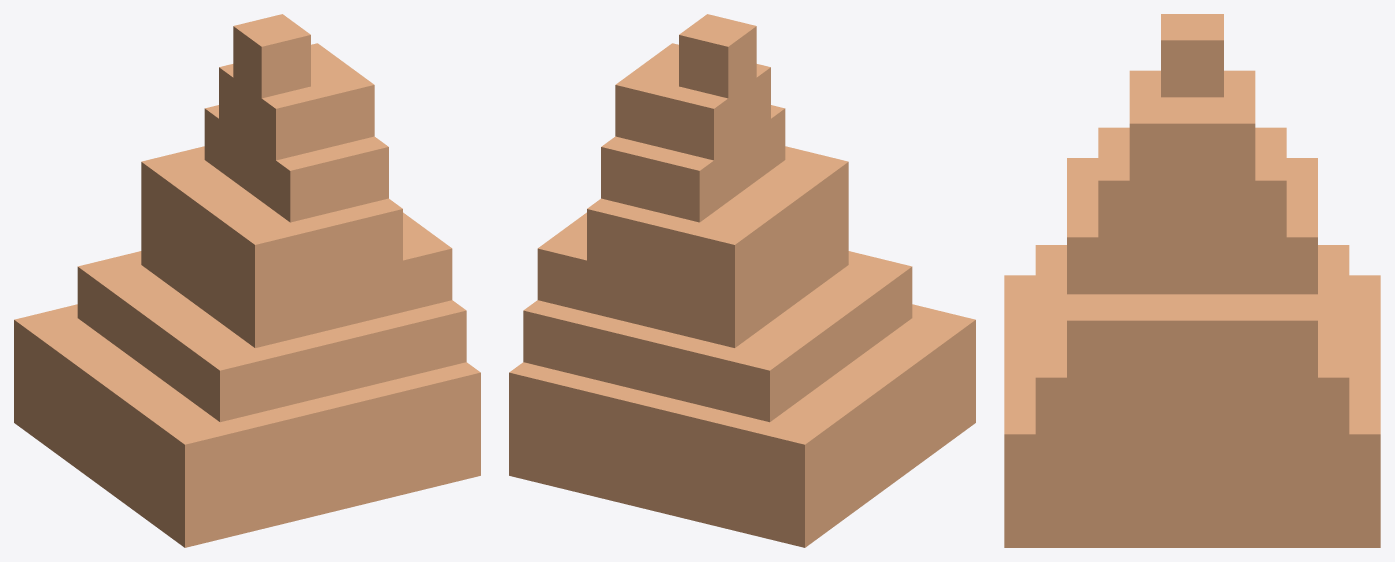
The model's file is sand-stone.glb.
3 views of the same model, side by side, from view 1: azimuth 30°, elevation 25°; view 2: azimuth 150°, elevation 25°; view 3: azimuth 270°, elevation 25° (orthographic). The views are drawn at different scales.
Visible parts, largest first — view 1: generated(Clone); view 2: generated(Clone); view 3: generated(Clone).
Boxes of the visible parts, x1,y1,x2,y2 form: generated(Clone): [14, 14, 480, 547]; generated(Clone): [509, 14, 975, 547]; generated(Clone): [1004, 14, 1380, 547].
Bounding box in the file's own units: 6 × 8 × 6.
1 material, 1 textured.
